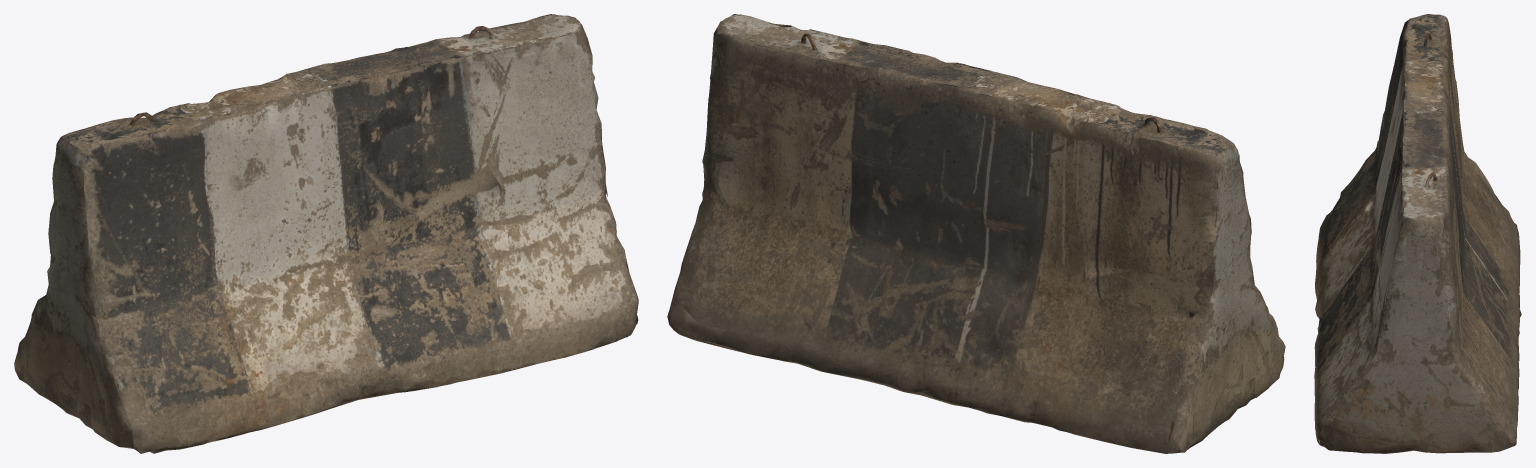
The model's file is concrete_road_barrier_lod0.gltf.
3 renders of one model, left to right at view 1: azimuth 30°, elevation 25°; view 2: azimuth 150°, elevation 25°; view 3: azimuth 270°, elevation 25°, orthographic. The views are drawn at different scales.
Visible parts, largest first — view 1: concrete_road_barrier_lod0; view 2: concrete_road_barrier_lod0; view 3: concrete_road_barrier_lod0.
Boxes of the visible parts, <box> form: concrete_road_barrier_lod0: <box>14,14,638,453</box>; concrete_road_barrier_lod0: <box>667,14,1285,453</box>; concrete_road_barrier_lod0: <box>1314,14,1521,453</box>.
Bounding box in the file's own units: 1.54 × 0.8328 × 0.6358.
Materials: 1 (1 with a texture image).
